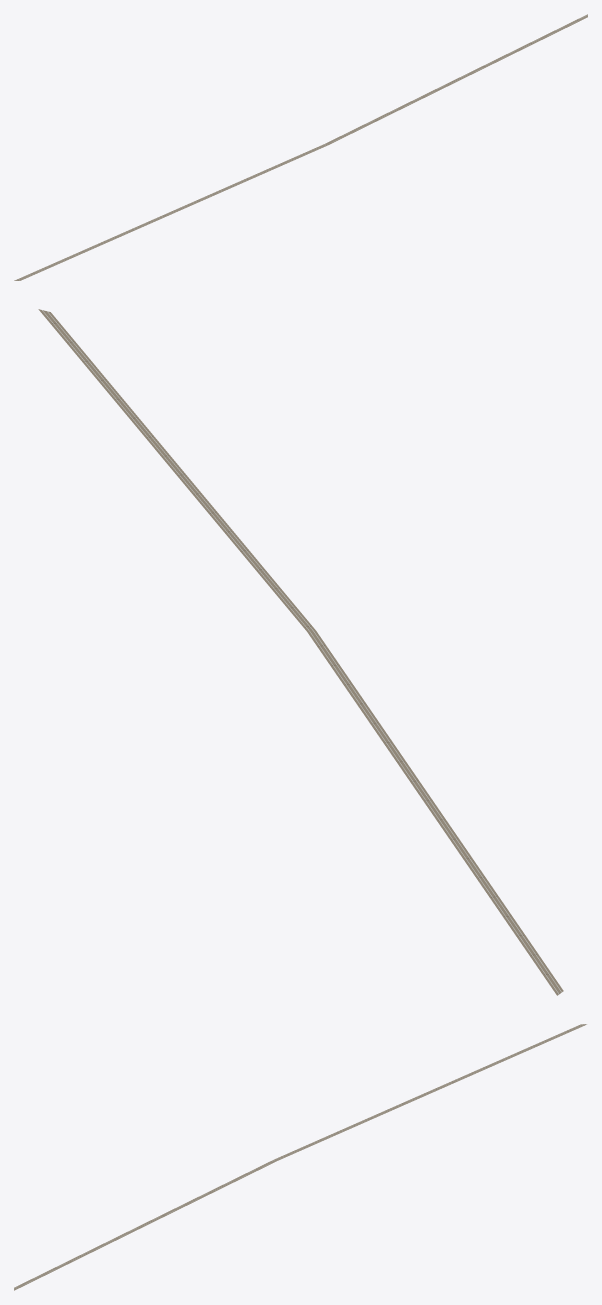
3 views of the same model, one above another, from view 1: azimuth 90°, elevation 25°; view 2: azimuth 150°, elevation 25°; view 3: azimuth 270°, elevation 25° (orthographic). The views are drawn at different scales.
Visible parts, largest first — view 1: rail; view 2: rail; view 3: rail.
Boxes of the visible parts, <box> form: rail: <box>14,14,587,280</box>; rail: <box>38,309,563,995</box>; rail: <box>14,1024,586,1290</box>.
Size of the model in its own units: 477 by 0.04 by 434.
